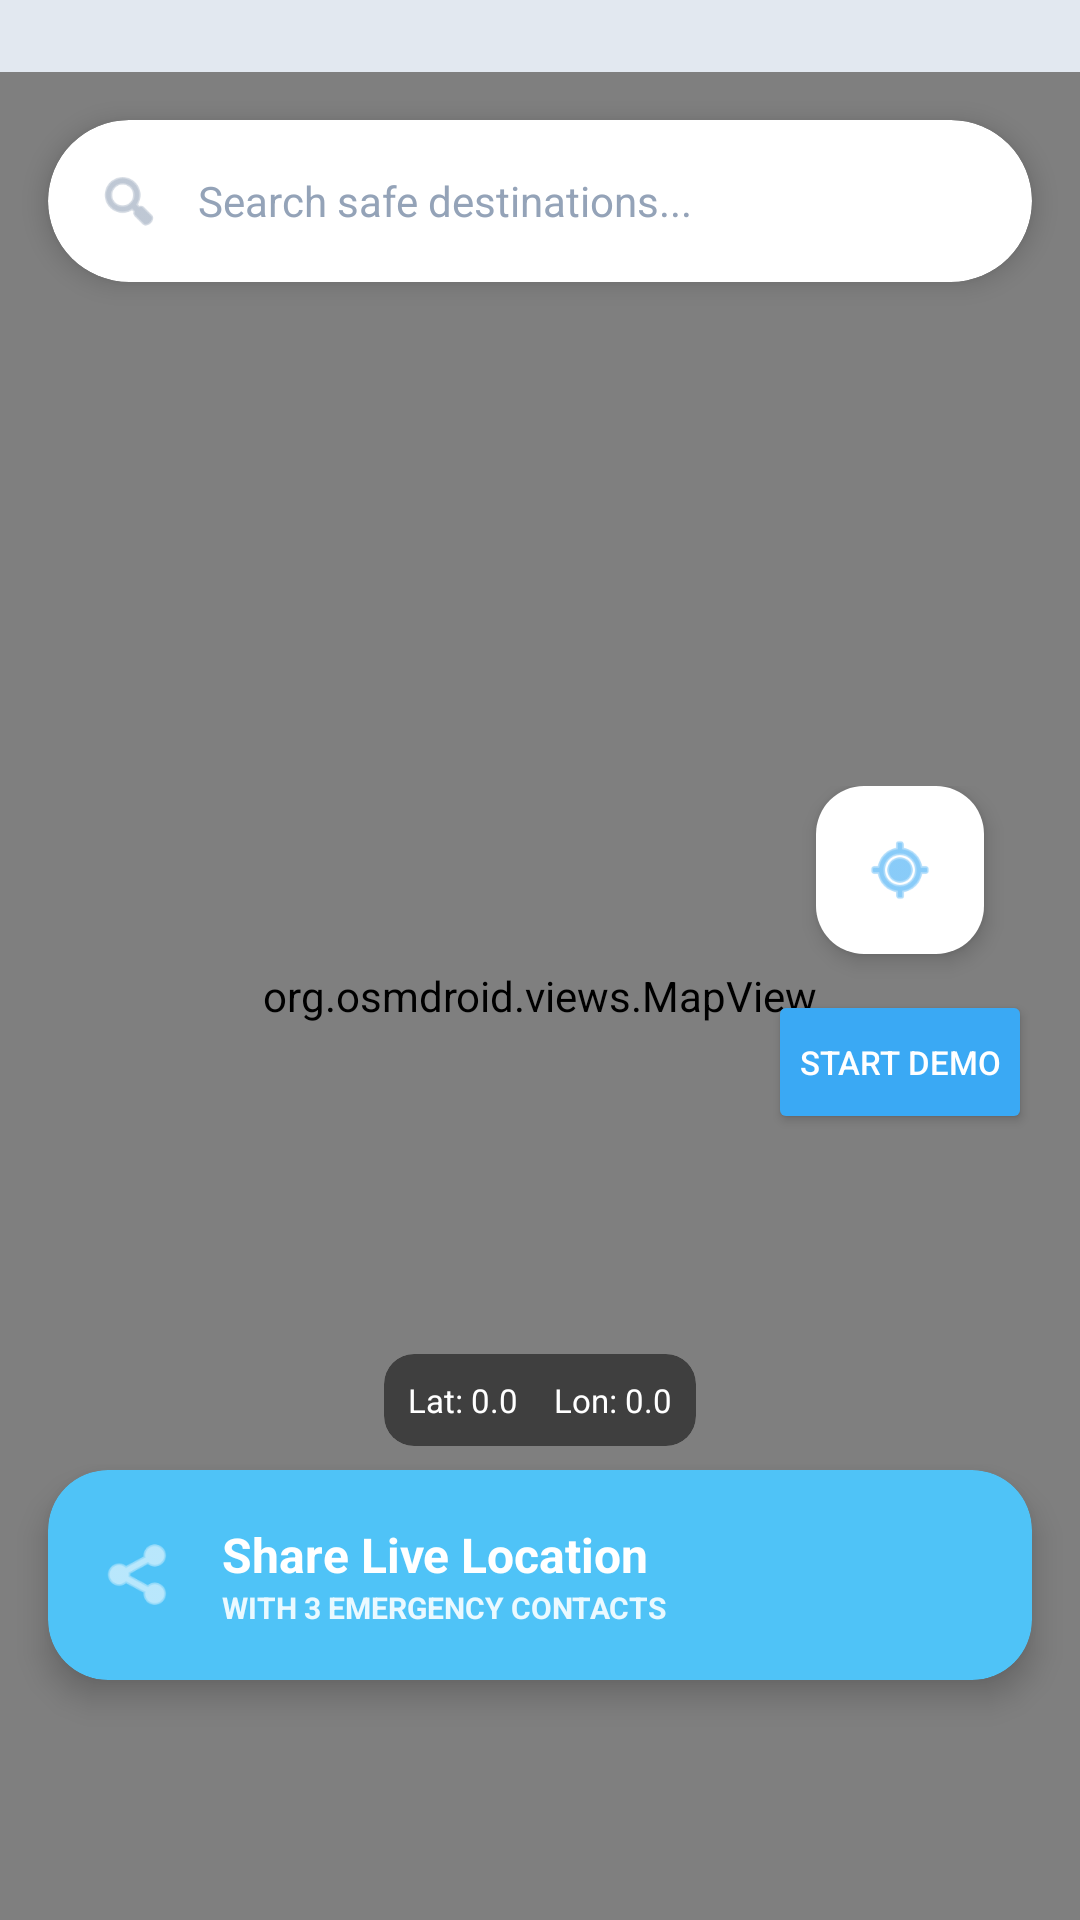

Icons on this 1080 × 1920 Android screen, each with its box as (x1, y1, x2, y2):
mylocation: (816, 786, 984, 954)
